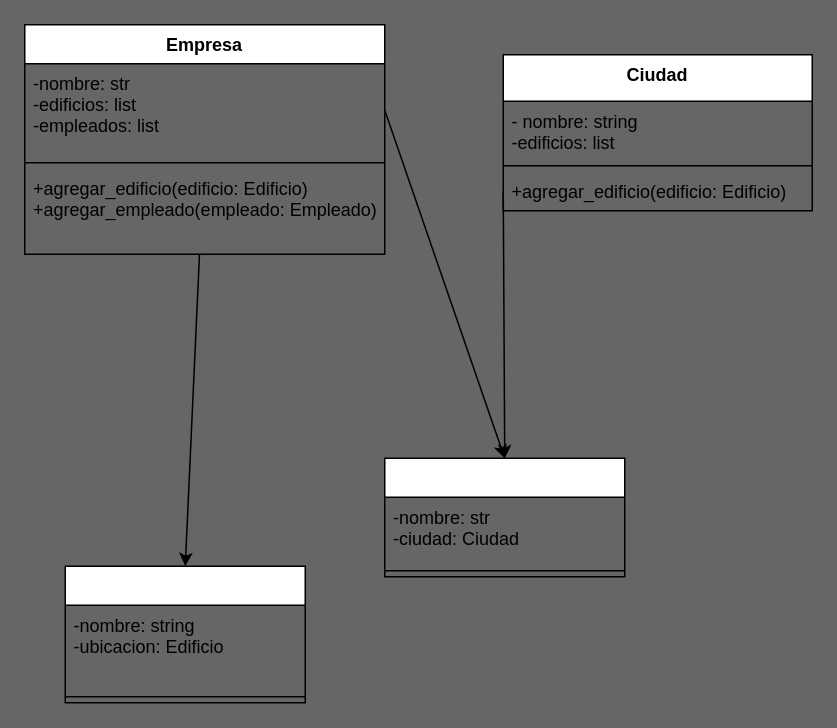
This 837x728 diagram has some shape labels left out. Here are the shapes that lost their labels. From the top down, the box of each, then its label:
(383, 457, 625, 577): Edificio
(64, 565, 305, 703): Empleado
